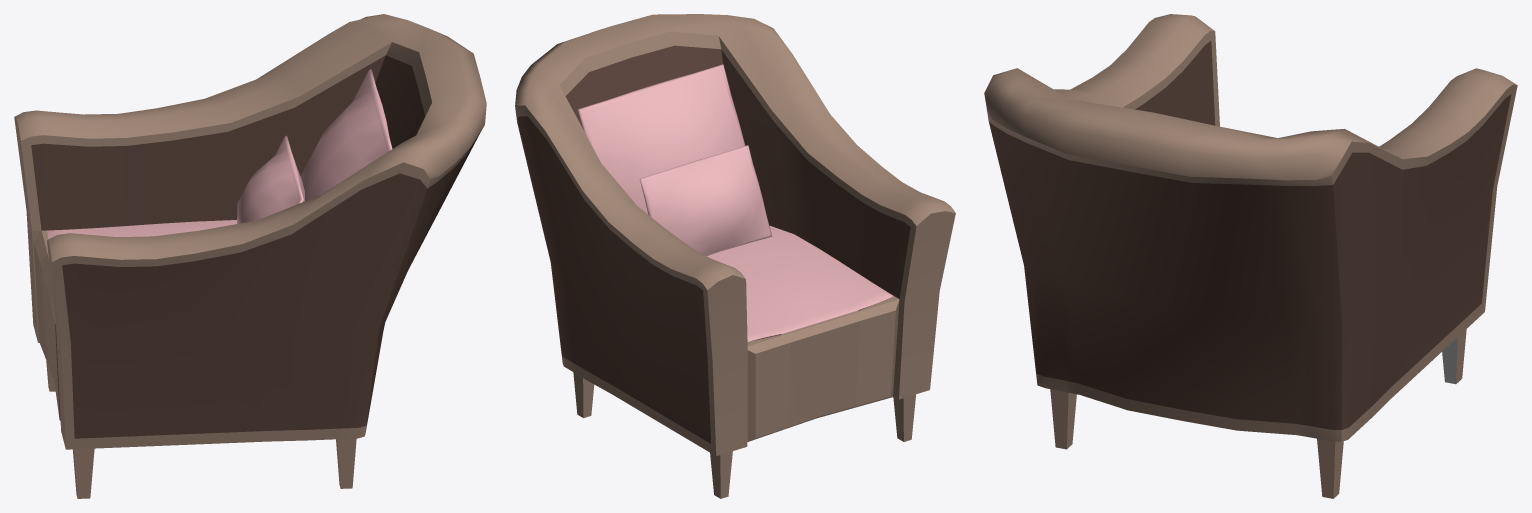
Rendered from wChair_lp.fbx.
3 views of the same model, side by side, from view 1: azimuth 30°, elevation 25°; view 2: azimuth 150°, elevation 25°; view 3: azimuth 270°, elevation 25° (orthographic). The views are drawn at different scales.
Parts seen in each view (by area): view 1: whickerChair1_lp; view 2: whickerChair1_lp; view 3: whickerChair1_lp.
Part boxes in pixels (<box>): whickerChair1_lp: <box>14,14,486,498</box>; whickerChair1_lp: <box>515,14,955,498</box>; whickerChair1_lp: <box>984,14,1517,498</box>.
Bounding box in the file's own units: 1.17 × 0.9204 × 1.09.
